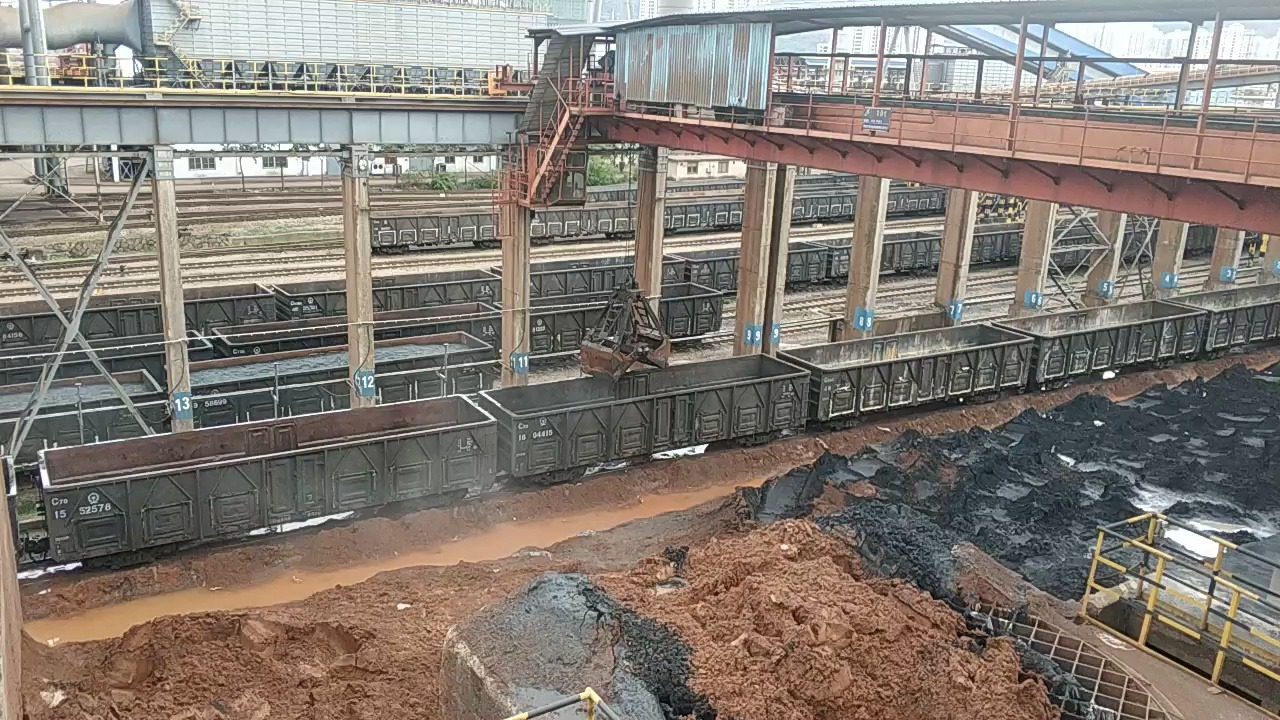dust: (411, 371, 522, 493)
grab: (575, 274, 670, 381)
